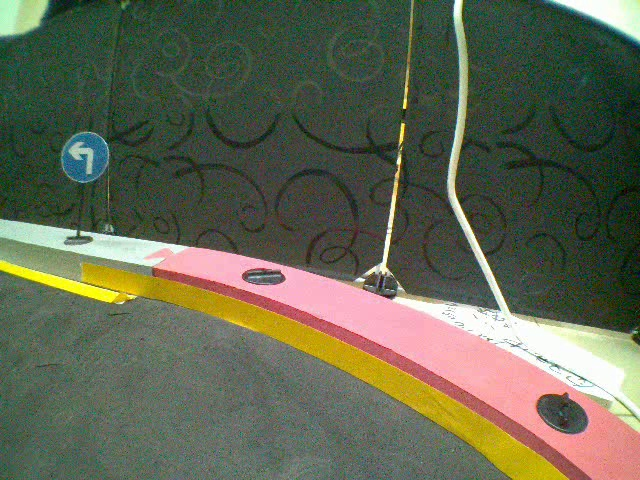turn: (59, 131, 110, 181)
